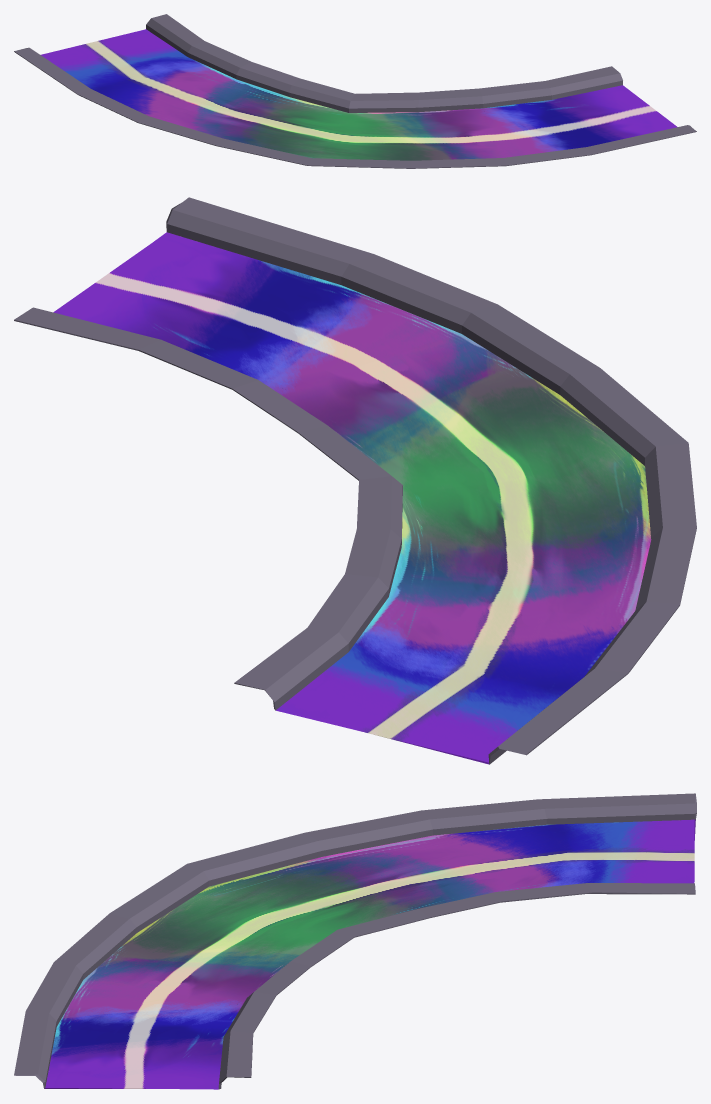
The model's file is SUP_ARCH_RoadInL.fbx.
The picture shows the model from 3 angles, top to bottom: view 1: azimuth 30°, elevation 25°; view 2: azimuth 150°, elevation 25°; view 3: azimuth 270°, elevation 25°; orthographic projection. The views are drawn at different scales.
Parts seen in each view (by area): view 1: curved-road- quantick; view 2: curved-road- quantick; view 3: curved-road- quantick.
Boxes of the visible parts, x1,y1,x2,y2 form: curved-road- quantick: (14,14,696,168); curved-road- quantick: (14,197,696,764); curved-road- quantick: (14,793,696,1089).
Bounding box in the file's own units: 2026 × 60.08 × 2057.
Materials: 2 (1 with a texture image).
